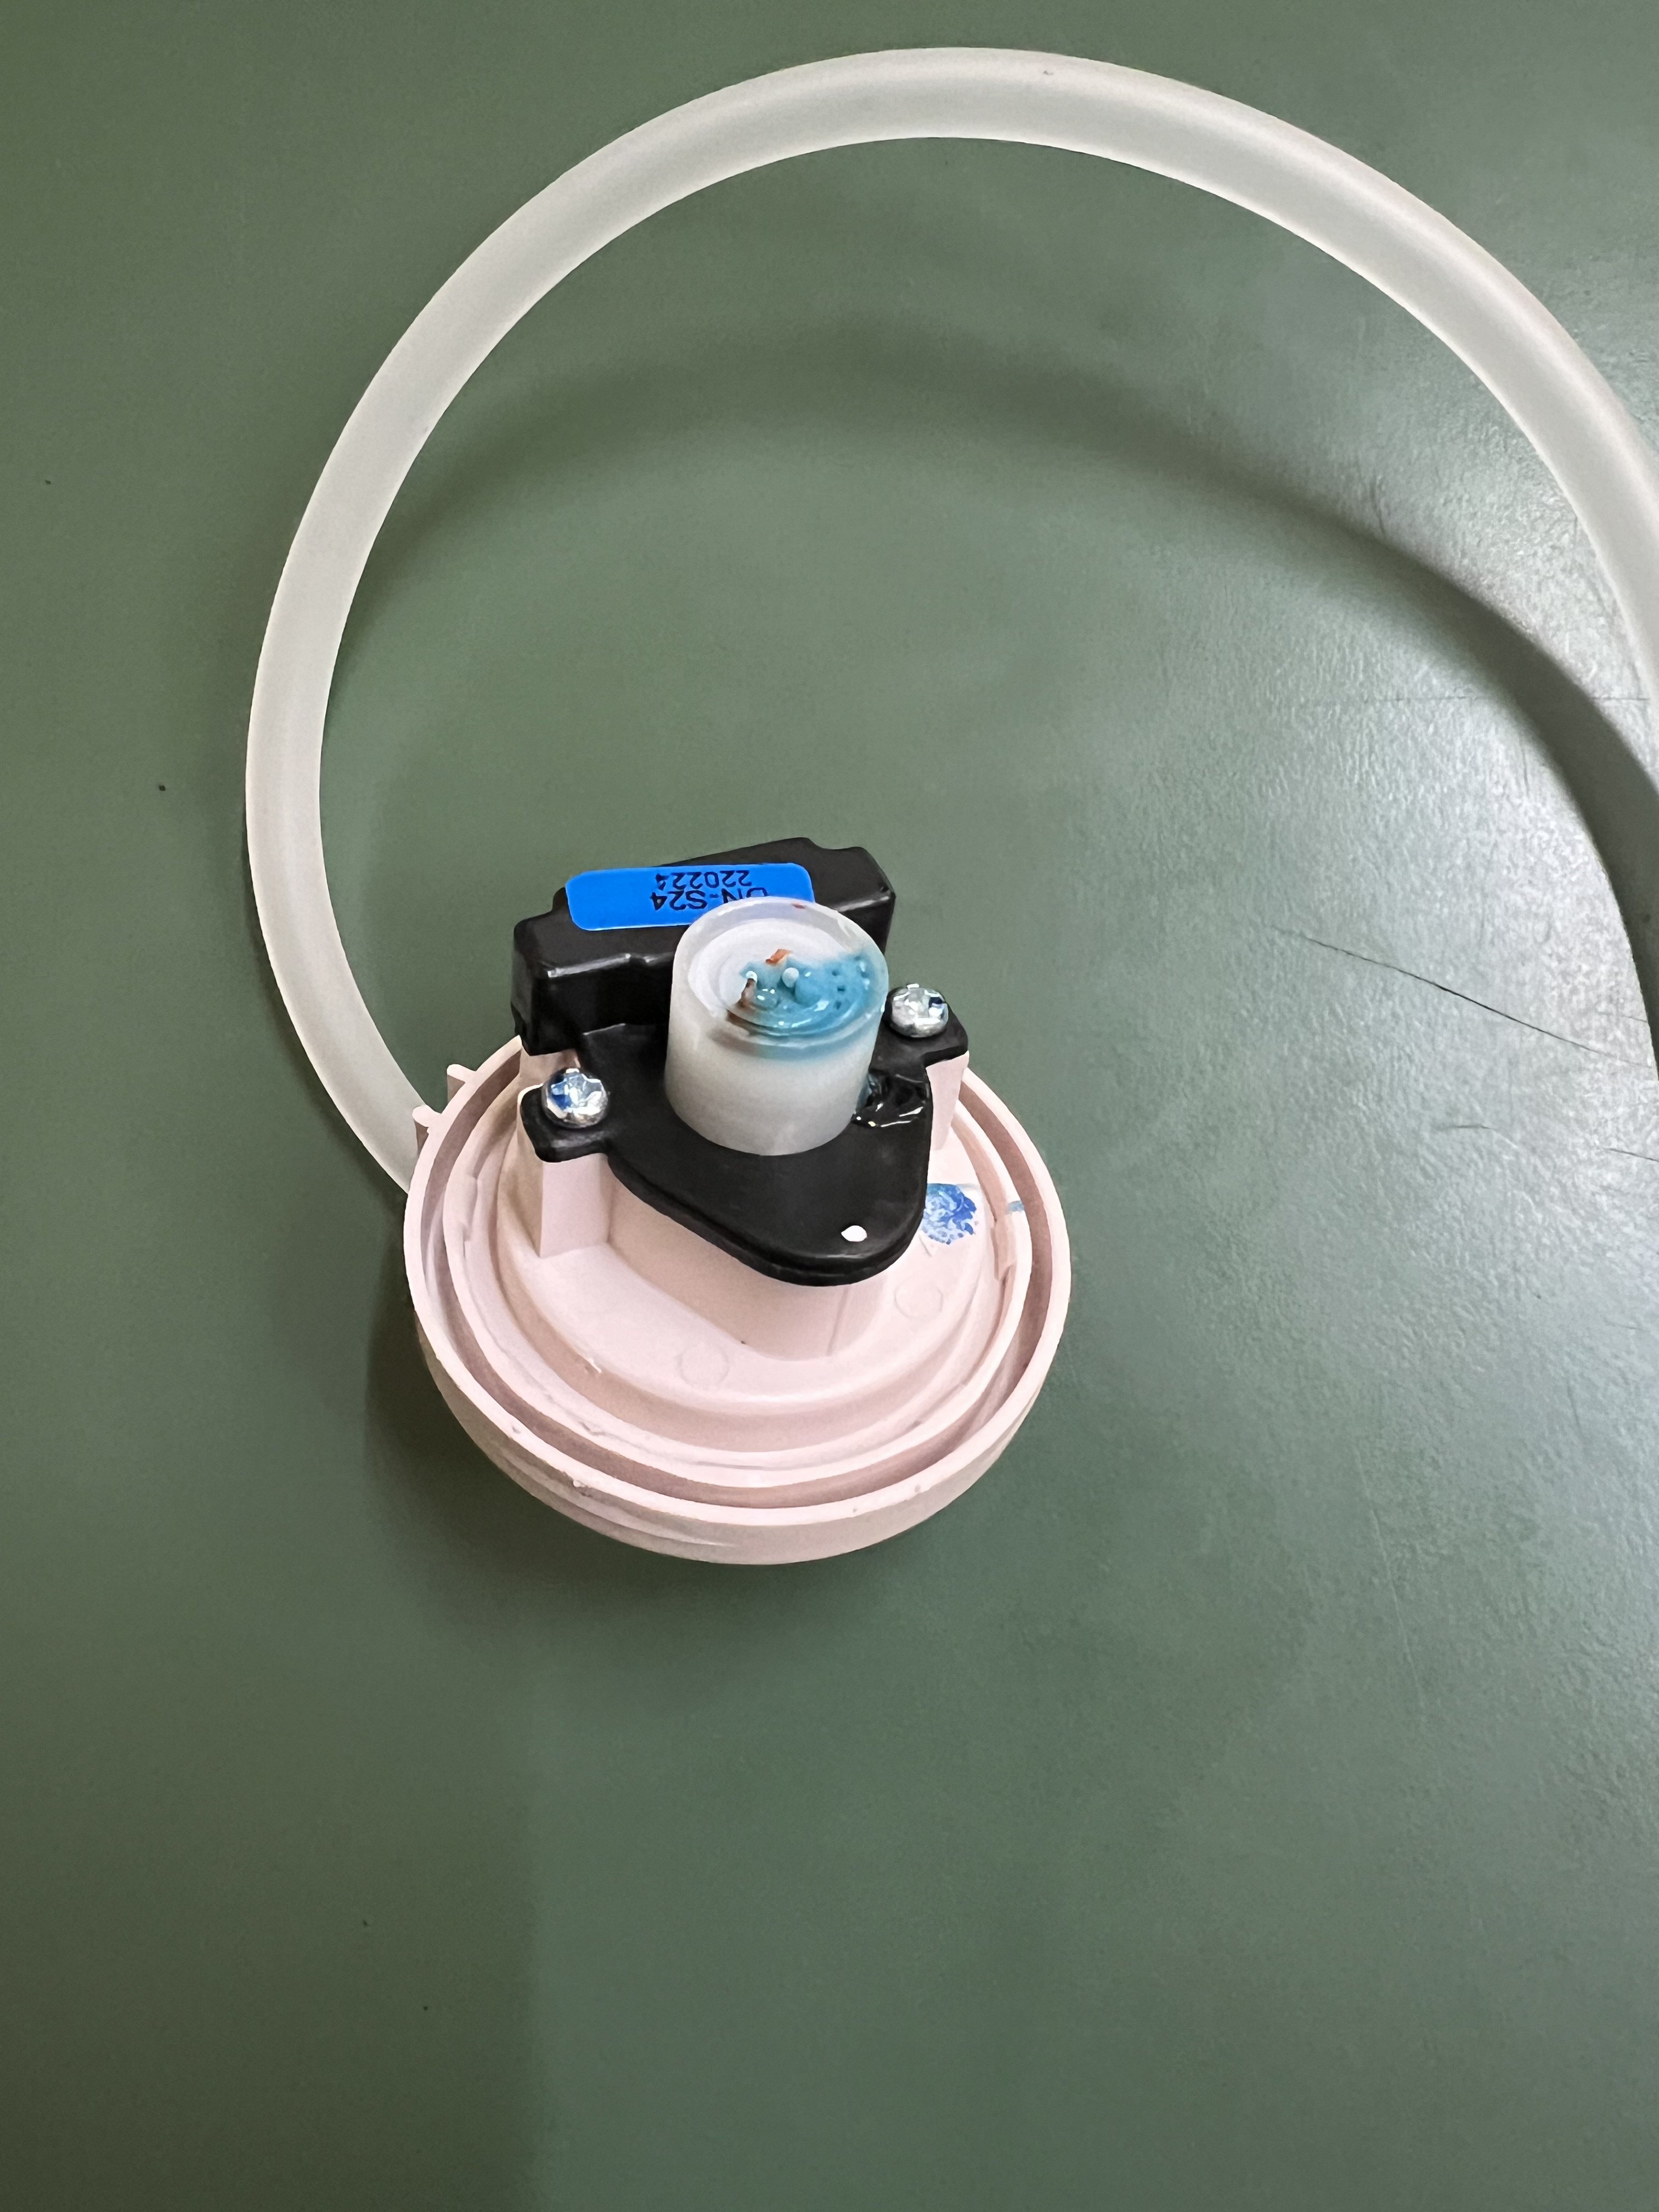pressure_sensor: (148, 712, 1091, 1609)
